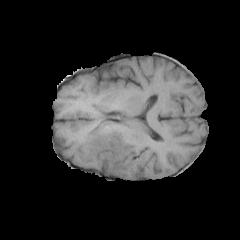glioma: (74, 124, 136, 173)
